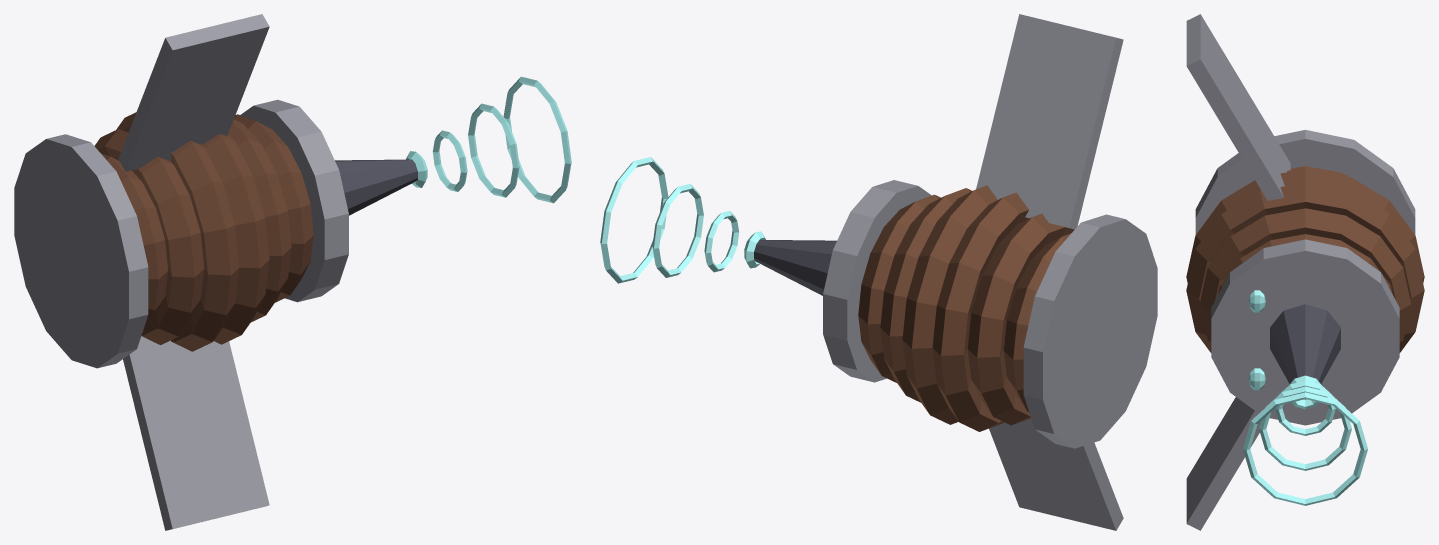
File: Fuelle.obj
The picture shows the model from 3 angles, left to right: view 1: azimuth 30°, elevation 25°; view 2: azimuth 150°, elevation 25°; view 3: azimuth 270°, elevation 25°; orthographic projection. The views are drawn at different scales.
Visible parts, largest first — view 1: Fuelle; view 2: Fuelle; view 3: Fuelle.
Part boxes in pixels (left/top/right/bottom): Fuelle: left=14, top=14, right=571, bottom=530; Fuelle: left=600, top=14, right=1157, bottom=530; Fuelle: left=1186, top=14, right=1424, bottom=530.
Size of the model in its own units: 193 by 194 by 89.
